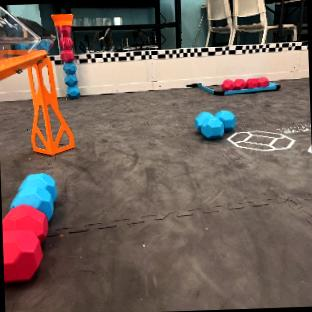V5_BLUE: (11, 174, 56, 218), (196, 111, 236, 138)
V5_RED: (2, 205, 47, 282), (53, 14, 79, 96), (221, 78, 269, 92), (60, 26, 74, 61)
